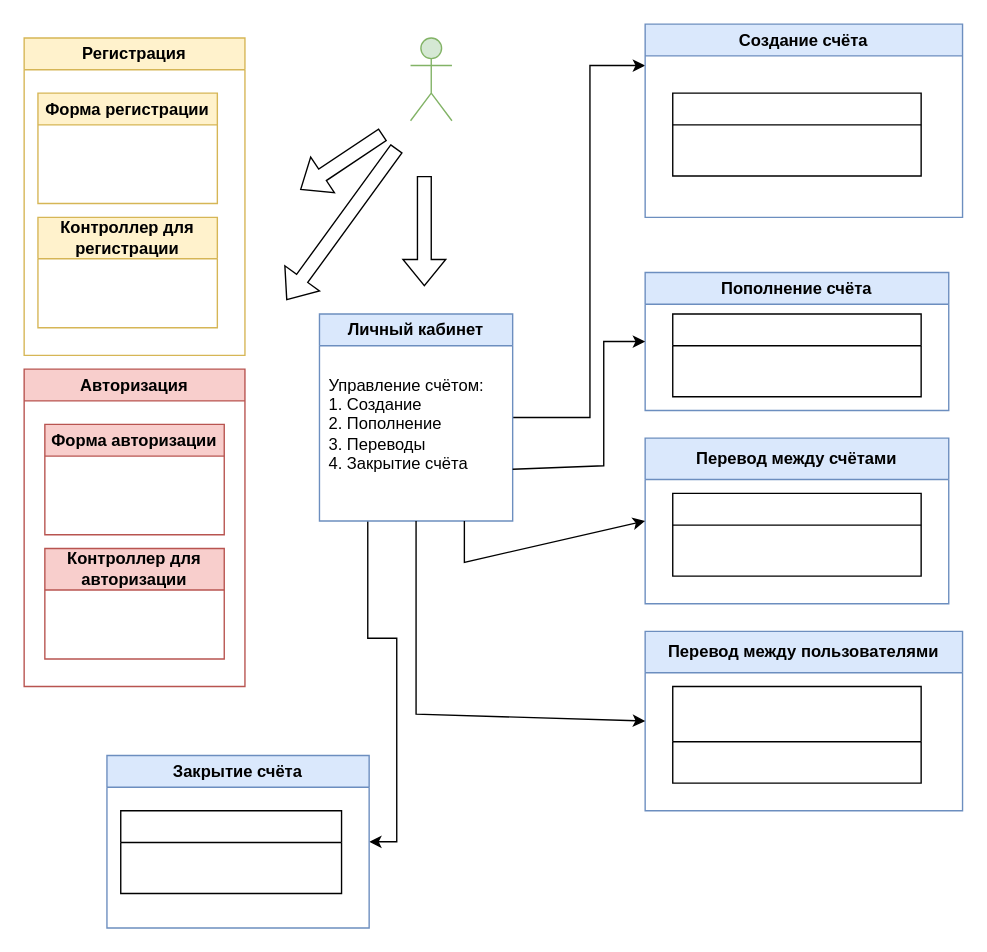
Image size: 987x952. Some labels were removed from this diagram. Here are the shapes that lost their labels. From the top down, the centre of each, then its label:
[430,79]: Пользователь
[796,134]: Форма создания
[796,355]: Форма пополнения
[796,534]: Форма перевода
[796,734]: Форма перевода другому пользователю
[230,851]: Форма закрытия счёта
